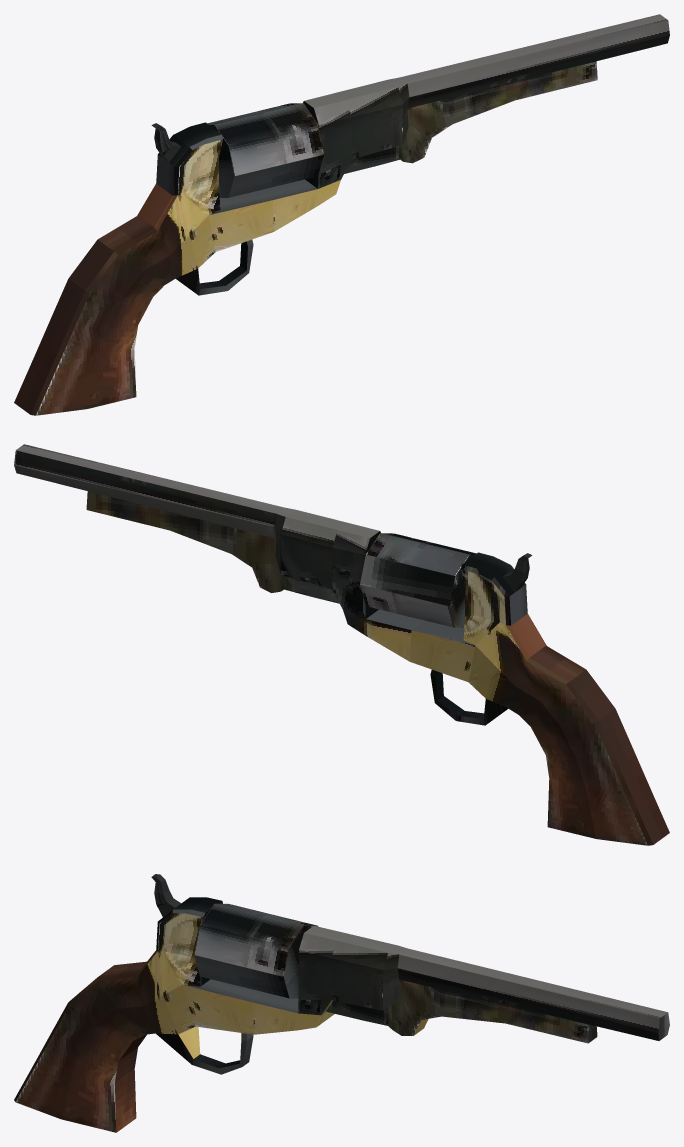
File: revolver.glb
The picture shows the model from 3 angles, top to bottom: view 1: azimuth 30°, elevation 25°; view 2: azimuth 150°, elevation 25°; view 3: azimuth 330°, elevation 25°; orthographic projection.
Parts seen in each view (by area): view 1: revolver, burence; view 2: revolver, burence; view 3: revolver, burence, cekic.
Boxes of the visible parts, x1,y1,x2,y2 form: revolver: (14,14,669,415); burence: (207,103,323,197); revolver: (14,444,669,845); burence: (360,533,476,627); revolver: (14,897,669,1132); burence: (194,903,318,998); cekic: (151,874,180,916).
Size of the model in its own units: 3.04 by 1.17 by 0.3317.
1 material, 1 textured.
